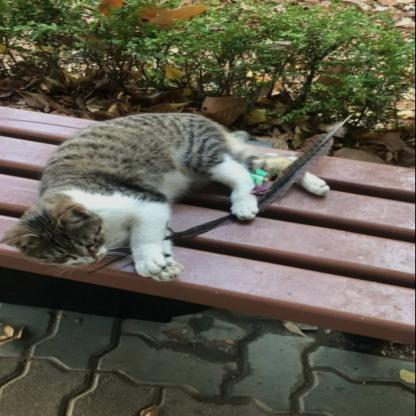cat: (8, 102, 325, 282)
